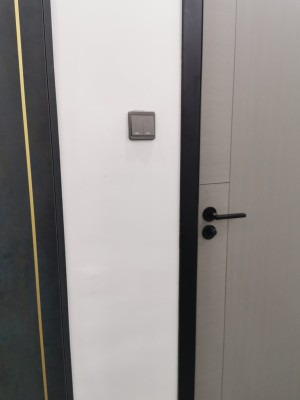switch: (129, 114, 144, 136), (148, 113, 155, 138)
